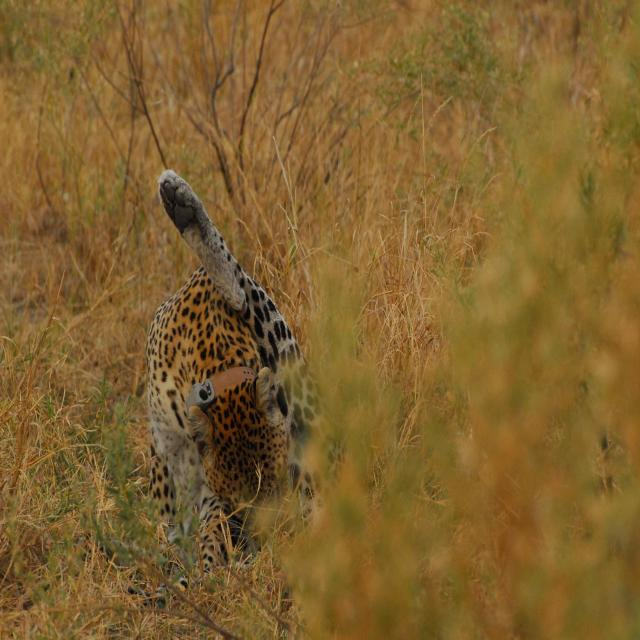Leopard: (126, 195, 343, 613)
